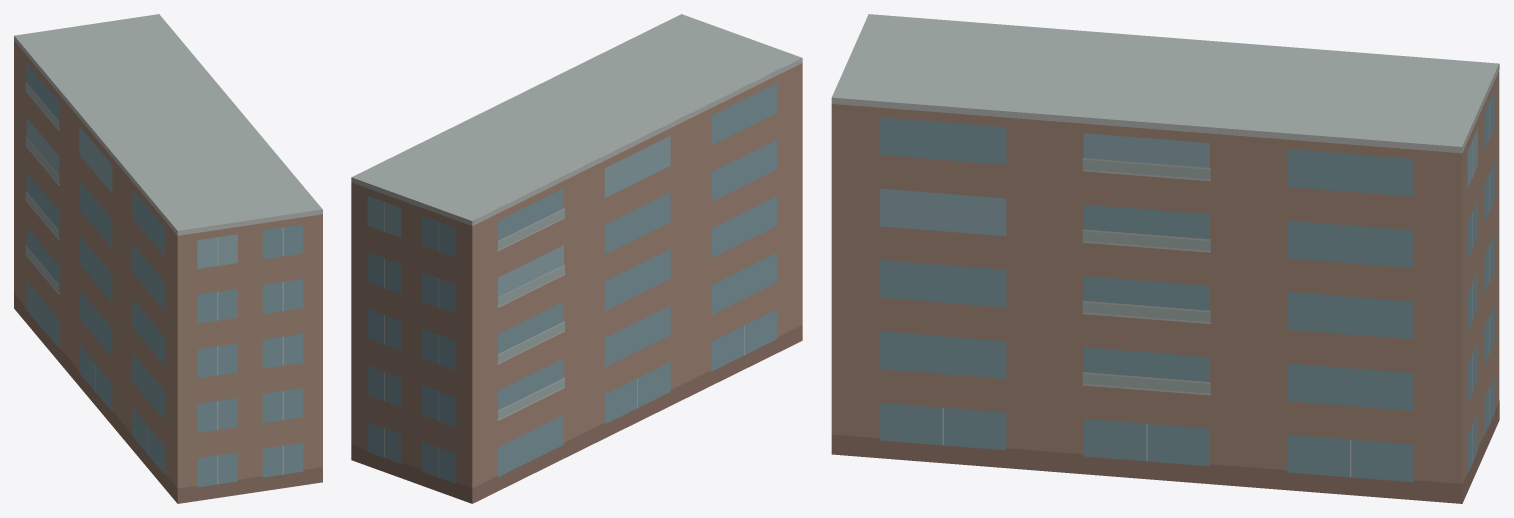
The model's file is survey-upis-32539423.glb.
The picture shows the model from 3 angles, left to right: view 1: azimuth 30°, elevation 25°; view 2: azimuth 150°, elevation 25°; view 3: azimuth 270°, elevation 25°; orthographic projection. The views are drawn at different scales.
Visible parts, largest first — view 1: survey-upis-32539423.tmp; view 2: survey-upis-32539423.tmp; view 3: survey-upis-32539423.tmp.
Boxes of the visible parts, x1,y1,x2,y2 form: survey-upis-32539423.tmp: (14,14,322,503); survey-upis-32539423.tmp: (351,14,802,503); survey-upis-32539423.tmp: (831,14,1499,503).
Size of the model in its own units: 11.05 by 13.8 by 23.41.
